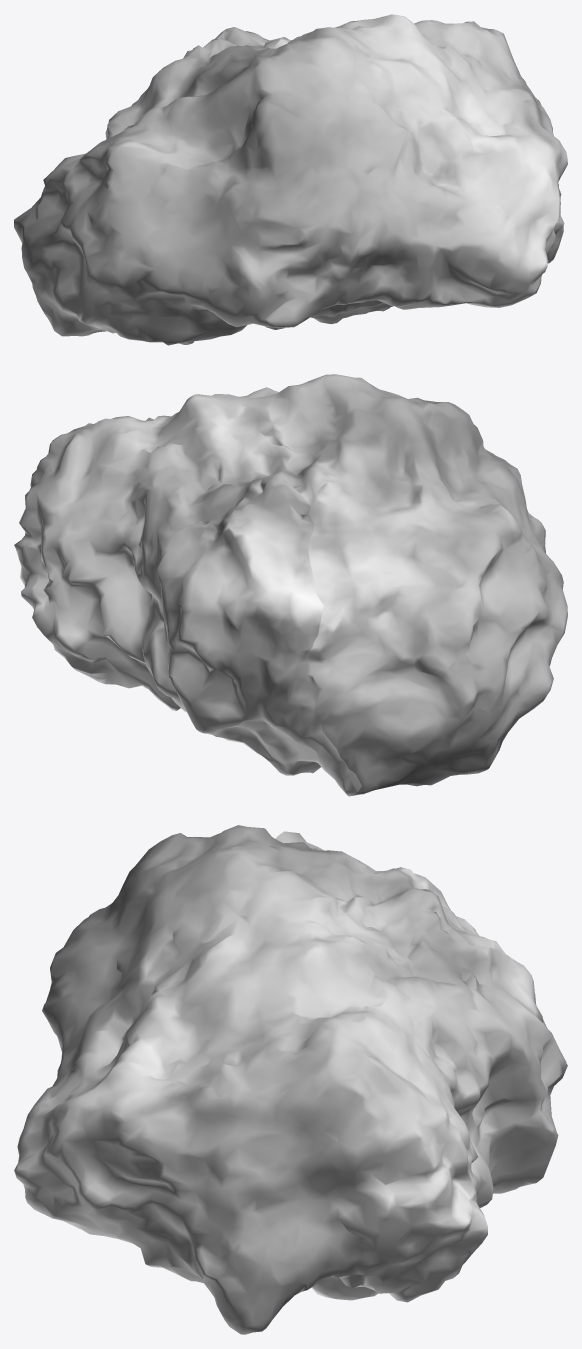
File: Mesh_Rock_B_New.fbx
3 renders of one model, top to bottom at view 1: azimuth 30°, elevation 25°; view 2: azimuth 150°, elevation 25°; view 3: azimuth 270°, elevation 25°, orthographic. The views are drawn at different scales.
Parts seen in each view (by area): view 1: SM_Rock_B_New_LOD0; view 2: SM_Rock_B_New_LOD0; view 3: SM_Rock_B_New_LOD0.
Boxes of the visible parts, left/top/right/bottom form: SM_Rock_B_New_LOD0: left=14, top=14, right=567, bottom=345; SM_Rock_B_New_LOD0: left=14, top=374, right=567, bottom=796; SM_Rock_B_New_LOD0: left=14, top=825, right=567, bottom=1334.
Bounding box in the file's own units: 500 × 403 × 316.
Materials: 1 (1 with a texture image).
